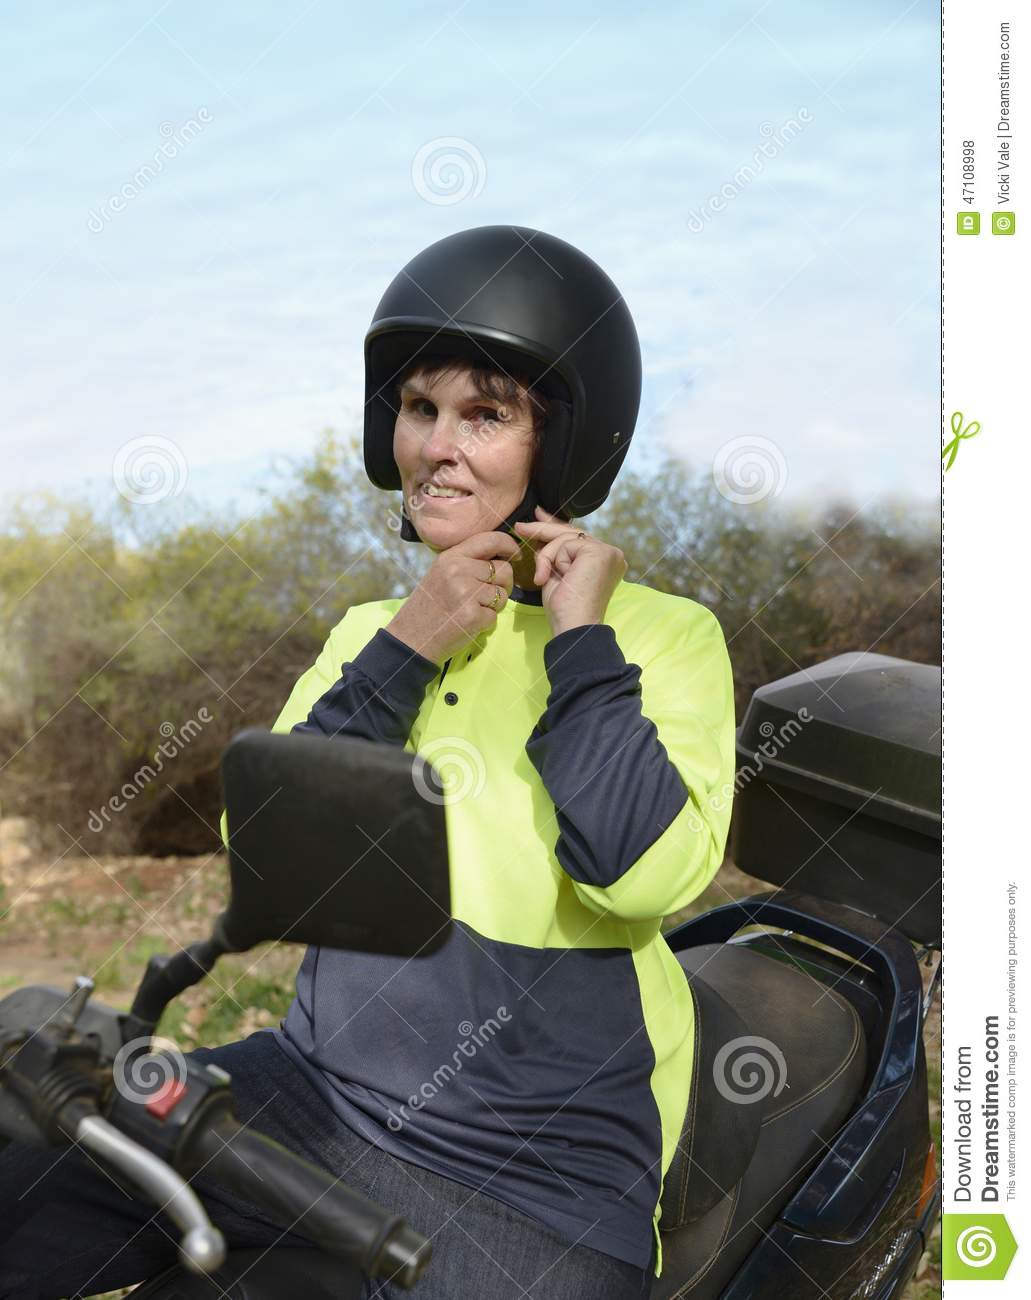helmet: (337, 217, 643, 539)
